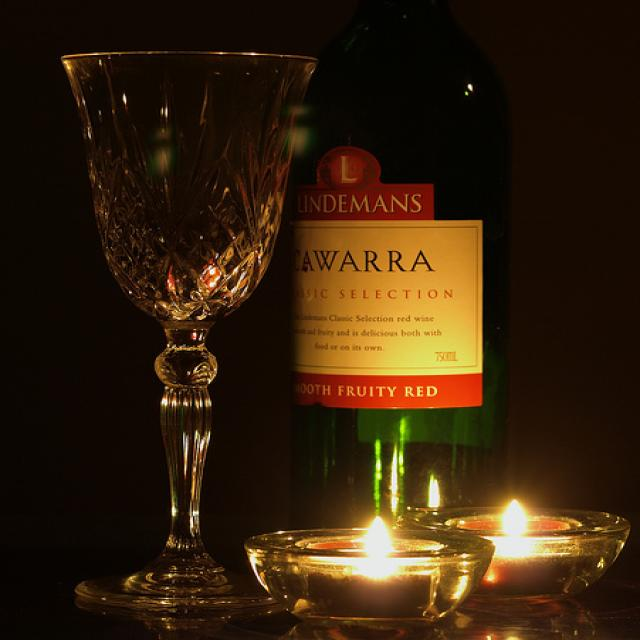Bottle: (307, 0, 590, 512)
Cup: (73, 15, 312, 640)
